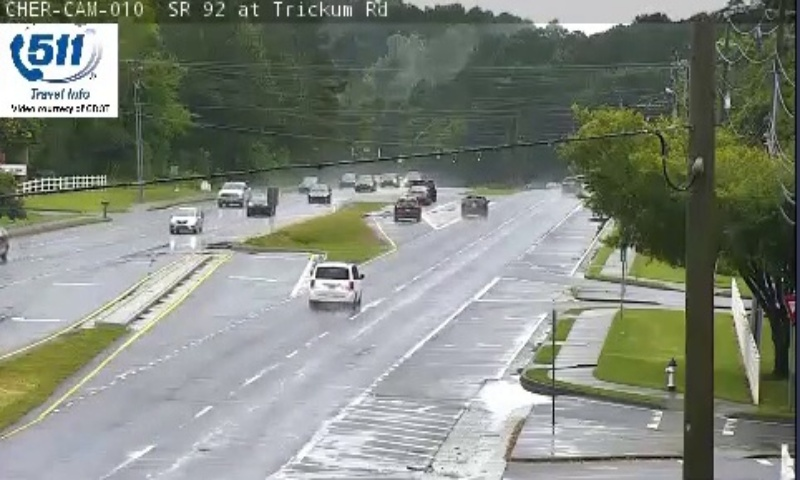car: (308, 261, 363, 304), (459, 193, 489, 218), (395, 196, 419, 220)
